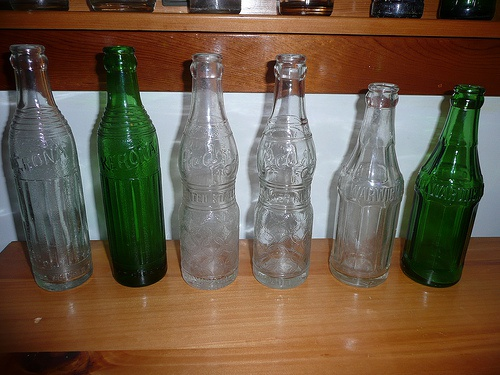emptybottle: (4, 44, 91, 290), (98, 46, 169, 287), (409, 84, 487, 286), (330, 82, 404, 285), (178, 54, 240, 290), (253, 54, 315, 286)
